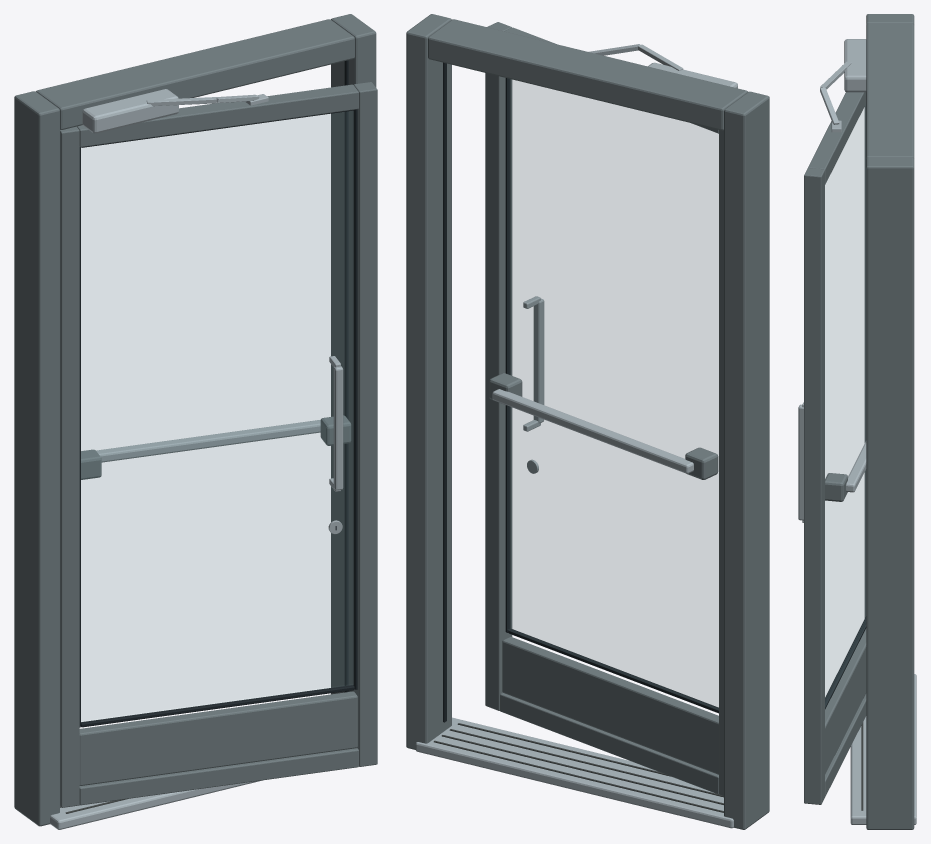
File: city-glazed-entry-door.glb
3 views of the same model, side by side, from view 1: azimuth 30°, elevation 25°; view 2: azimuth 150°, elevation 25°; view 3: azimuth 270°, elevation 25° (orthographic). The views are drawn at different scales.
Parts seen in each view (by area): view 1: Tempered transparent glass pane, Outer entry jamb, Glazed leaf lower kick plate, Door leaf rail vertical.001, Door leaf rail vertical, Outer entry head, Outer entry jamb.001, Door leaf rail horizontal.001, Door leaf rail horizontal, Interior horizontal push bar, Glazing EPDM seal vertical.001, Outer compression seal.001 (+5 smaller); view 2: Tempered transparent glass pane, Outer entry jamb, Outer entry jamb.001, Door leaf rail vertical.001, Outer entry head, Glazed leaf lower kick plate, Accessible shallow threshold, Door leaf rail horizontal, Door leaf rail vertical, Glazing EPDM seal vertical.001, Interior horizontal push bar, Outer compression seal.001 (+6 smaller); view 3: Outer entry jamb.001, Tempered transparent glass pane, Door leaf rail vertical.001, Outer entry head, Glazed leaf lower kick plate, Accessible shallow threshold, Door leaf rail horizontal.001, Door leaf rail vertical, Door closer housing, Door leaf rail horizontal, Vertical door pull, Interior push bar mounting shoe.001 (+6 smaller).
Part boxes in pixels (x1,y1,x2,y2): Tempered transparent glass pane: [81, 111, 353, 721]; Outer entry jamb: [14, 91, 59, 826]; Glazed leaf lower kick plate: [79, 691, 357, 785]; Door leaf rail vertical.001: [353, 82, 377, 766]; Door leaf rail vertical: [60, 126, 79, 807]; Outer entry head: [36, 19, 354, 129]; Outer entry jamb.001: [331, 14, 376, 694]; Door leaf rail horizontal.001: [77, 84, 358, 147]; Door leaf rail horizontal: [79, 748, 358, 805]; Interior horizontal push bar: [96, 419, 320, 462]; Glazing EPDM seal vertical.001: [353, 109, 357, 689]; Outer compression seal.001: [344, 60, 348, 692]; Tempered transparent glass pane: [507, 79, 718, 709]; Outer entry jamb: [724, 91, 769, 829]; Outer entry jamb.001: [406, 14, 451, 749]; Door leaf rail vertical.001: [485, 22, 512, 710]; Outer entry head: [428, 19, 747, 130]; Glazed leaf lower kick plate: [502, 637, 718, 774]; Accessible shallow threshold: [415, 717, 733, 828]; Door leaf rail horizontal: [500, 693, 718, 794]; Door leaf rail vertical: [719, 130, 723, 796]; Glazing EPDM seal vertical.001: [505, 78, 510, 632]; Interior horizontal push bar: [492, 389, 693, 473]; Outer compression seal.001: [443, 62, 446, 722]; Outer entry jamb.001: [866, 157, 914, 829]; Tempered transparent glass pane: [825, 105, 865, 706]; Door leaf rail vertical.001: [804, 168, 824, 804]; Outer entry head: [866, 23, 914, 158]; Glazed leaf lower kick plate: [825, 628, 866, 774]; Accessible shallow threshold: [850, 674, 916, 824]; Door leaf rail horizontal.001: [808, 92, 866, 184]; Door leaf rail vertical: [864, 104, 866, 618]; Door closer housing: [844, 39, 866, 92]; Door leaf rail horizontal: [825, 693, 866, 796]; Vertical door pull: [798, 404, 803, 520]; Interior push bar mounting shoe.001: [825, 473, 847, 501].
Size of the model in its own units: 1.1 by 2.22 by 0.3585.
